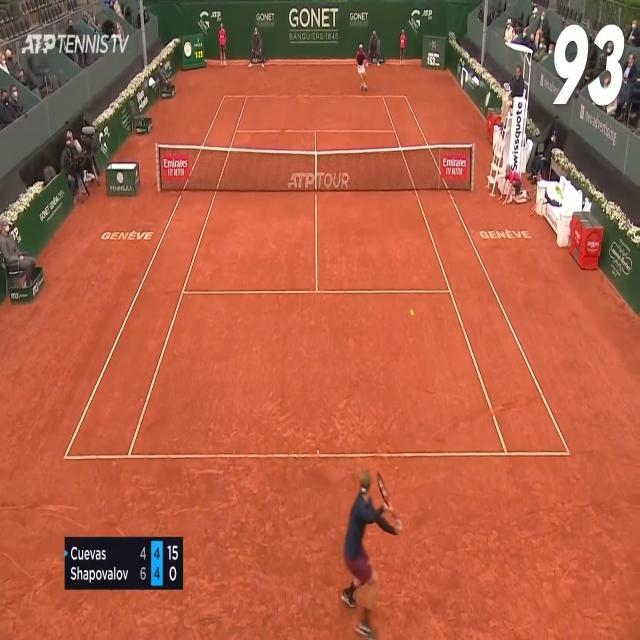court: (63, 95, 570, 460)
net: (156, 142, 476, 191)
player: (340, 469, 402, 640)
